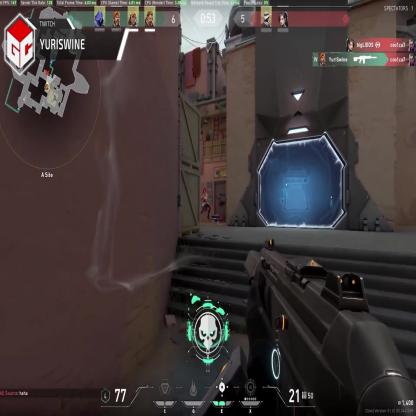enemy: (200, 187, 211, 221)
enemy_head: (203, 187, 208, 197)
